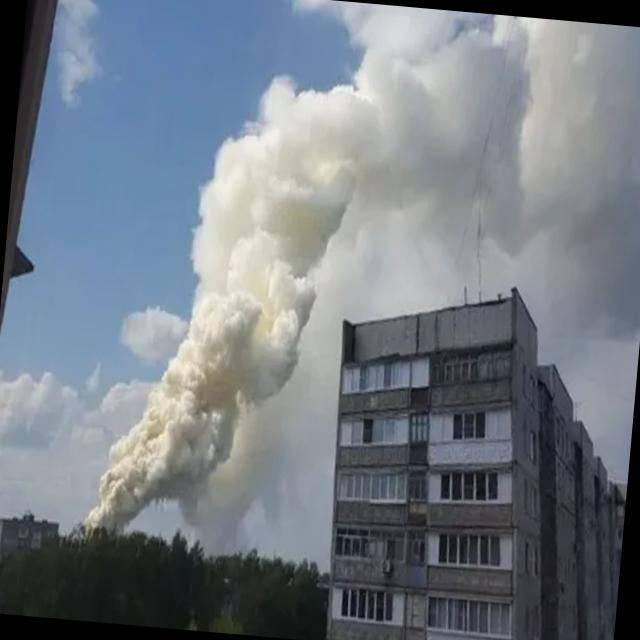Smoke: (86, 0, 524, 552)
